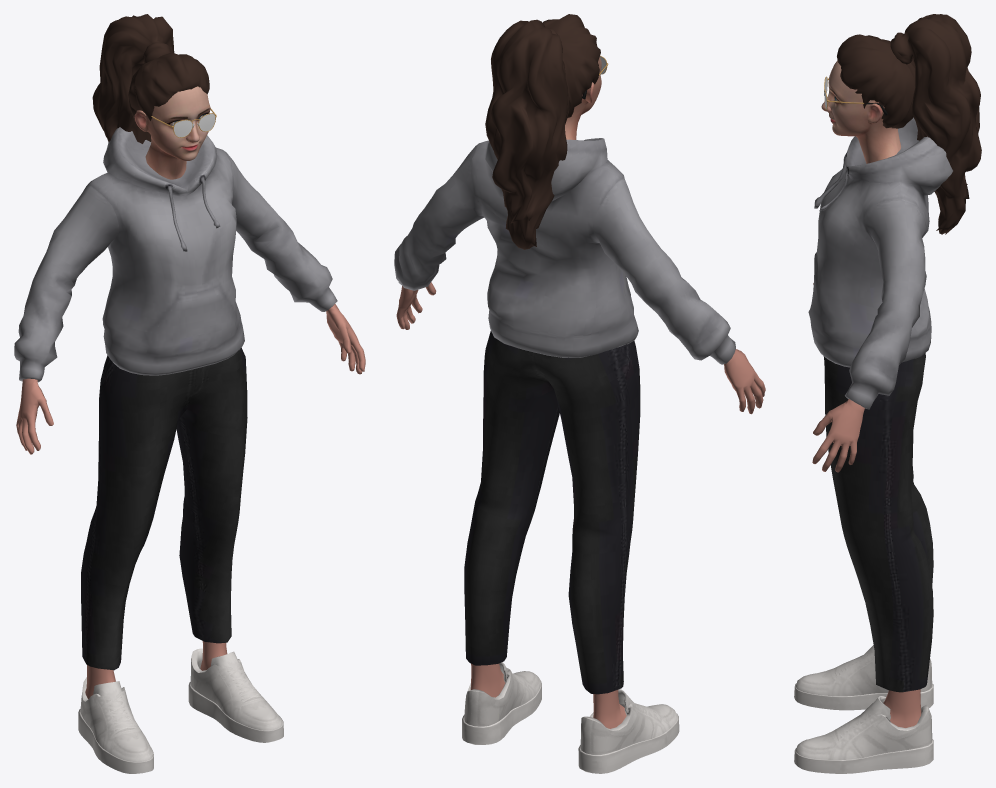
Rendered from avatar test.gltf.
3 renders of one model, left to right at view 1: azimuth 30°, elevation 25°; view 2: azimuth 150°, elevation 25°; view 3: azimuth 270°, elevation 25°, orthographic. The views are drawn at different scales.
Visible parts, largest first — view 1: Wolf3D_Outfit_Top, Wolf3D_Outfit_Bottom, Wolf3D_Outfit_Footwear, Wolf3D_Hair, Wolf3D_Head, Wolf3D_Body, Wolf3D_Glasses; view 2: Wolf3D_Outfit_Bottom, Wolf3D_Outfit_Top, Wolf3D_Hair, Wolf3D_Outfit_Footwear, Wolf3D_Body, Wolf3D_Head; view 3: Wolf3D_Outfit_Top, Wolf3D_Outfit_Bottom, Wolf3D_Hair, Wolf3D_Outfit_Footwear, Wolf3D_Head, Wolf3D_Body.
Part boxes in pixels (box(x1,y1,x2,y2)): Wolf3D_Outfit_Top: box(14, 127, 337, 382); Wolf3D_Outfit_Bottom: box(81, 348, 247, 670); Wolf3D_Outfit_Footwear: box(78, 648, 283, 773); Wolf3D_Hair: box(92, 14, 209, 143); Wolf3D_Head: box(134, 86, 210, 179); Wolf3D_Body: box(16, 304, 365, 698); Wolf3D_Glasses: box(143, 108, 216, 137); Wolf3D_Outfit_Bottom: box(464, 331, 640, 694); Wolf3D_Outfit_Top: box(394, 138, 735, 364); Wolf3D_Hair: box(485, 14, 600, 249); Wolf3D_Outfit_Footwear: box(462, 662, 679, 773); Wolf3D_Body: box(396, 282, 765, 728); Wolf3D_Head: box(565, 57, 601, 139); Wolf3D_Outfit_Top: box(808, 117, 952, 409); Wolf3D_Outfit_Bottom: box(823, 353, 933, 692); Wolf3D_Hair: box(837, 14, 981, 234); Wolf3D_Outfit_Footwear: box(794, 645, 933, 773); Wolf3D_Head: box(821, 60, 900, 163); Wolf3D_Body: box(812, 283, 921, 727).
Size of the model in its own units: 0.9279 by 1.82 by 0.434.
Materials: 10 (10 with a texture image).
